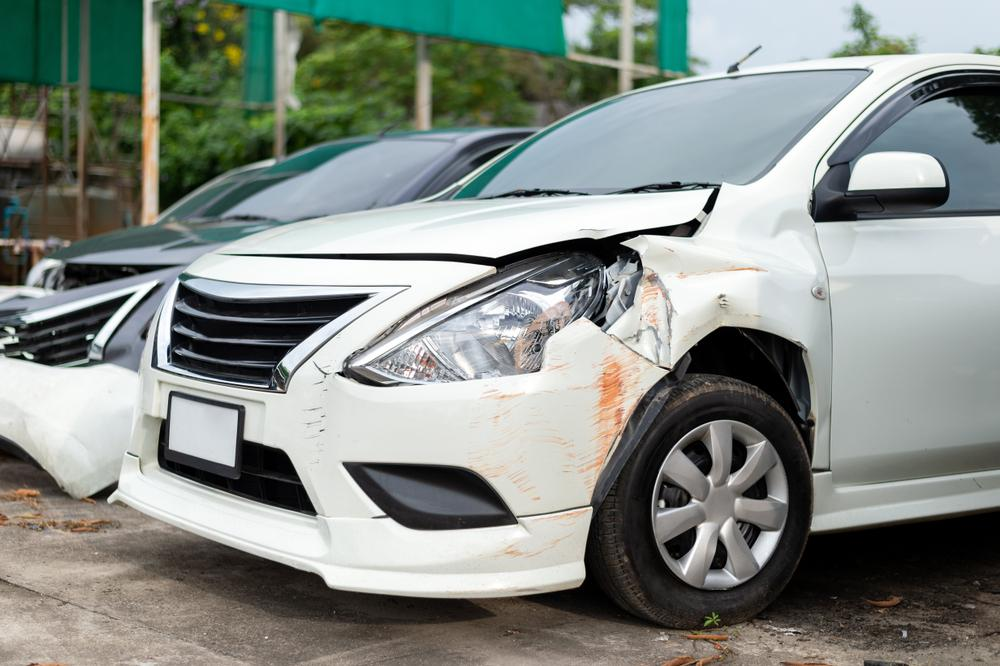dent: (620, 205, 820, 367)
scratch: (469, 345, 649, 506), (501, 508, 595, 561), (301, 364, 337, 442)
